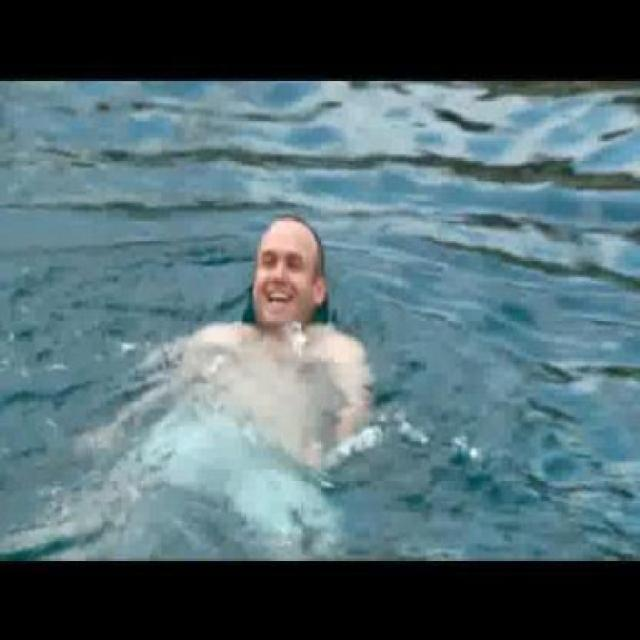Out of Water: (224, 206, 354, 361)
